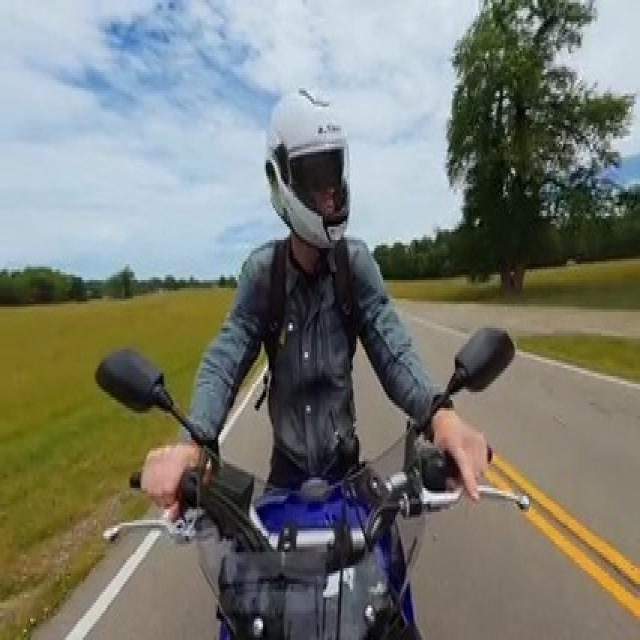Helmet_Wearer: (248, 78, 359, 250)
Person: (140, 79, 486, 519)
